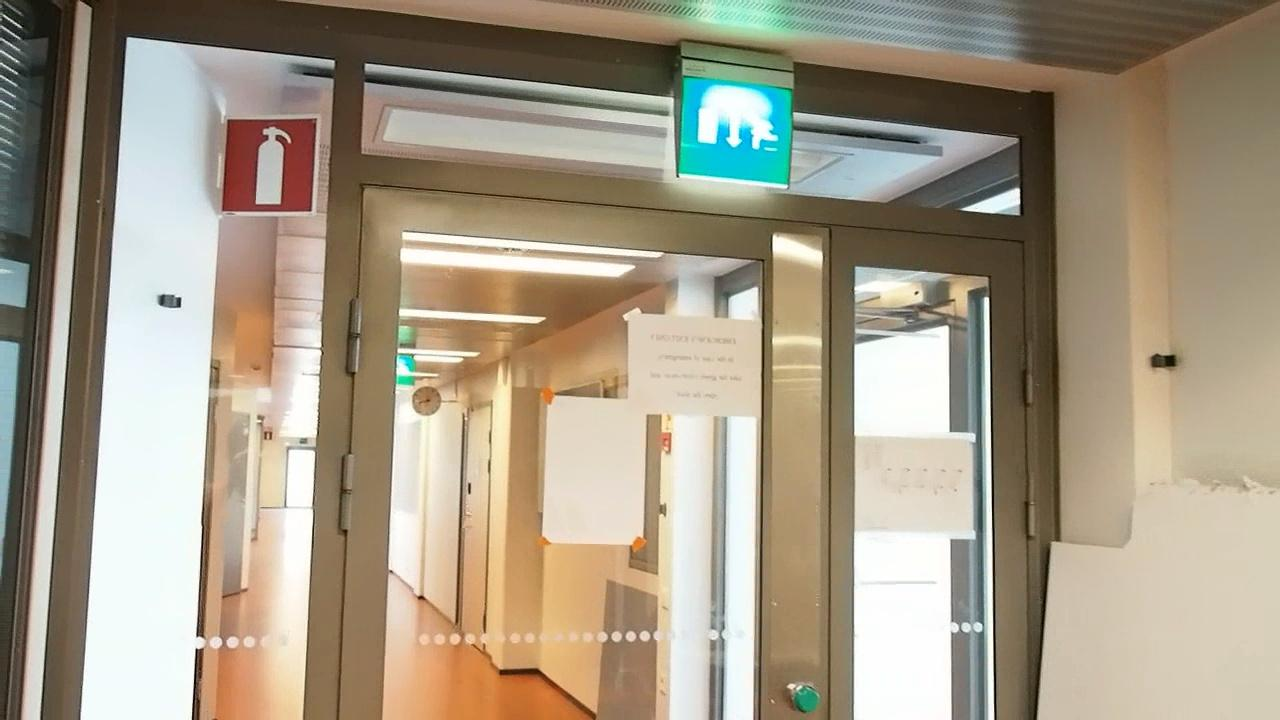exit: (676, 75, 795, 183)
fireextinguisher: (221, 114, 314, 211)
